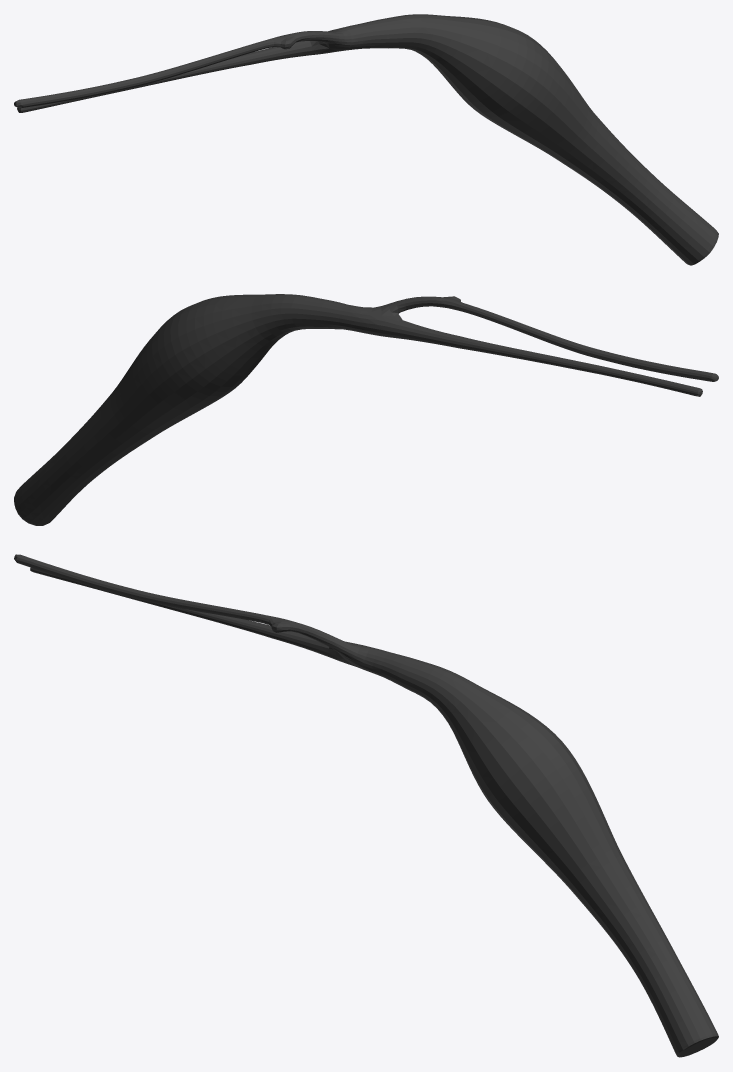
Rendered from NERVE_CCG_L.glb.
The picture shows the model from 3 angles, top to bottom: view 1: azimuth 30°, elevation 25°; view 2: azimuth 150°, elevation 25°; view 3: azimuth 330°, elevation 25°; orthographic projection. The views are drawn at different scales.
Visible parts, largest first — view 1: NERVE_CCG_L; view 2: NERVE_CCG_L; view 3: NERVE_CCG_L.
Part boxes in pixels (x1,y1,x2,y2): NERVE_CCG_L: (14, 14, 718, 265); NERVE_CCG_L: (14, 294, 718, 525); NERVE_CCG_L: (14, 554, 718, 1057).
Bounding box in the file's own units: 8.12 × 3.6 × 1.05.
Materials: 1 (1 with a texture image).
